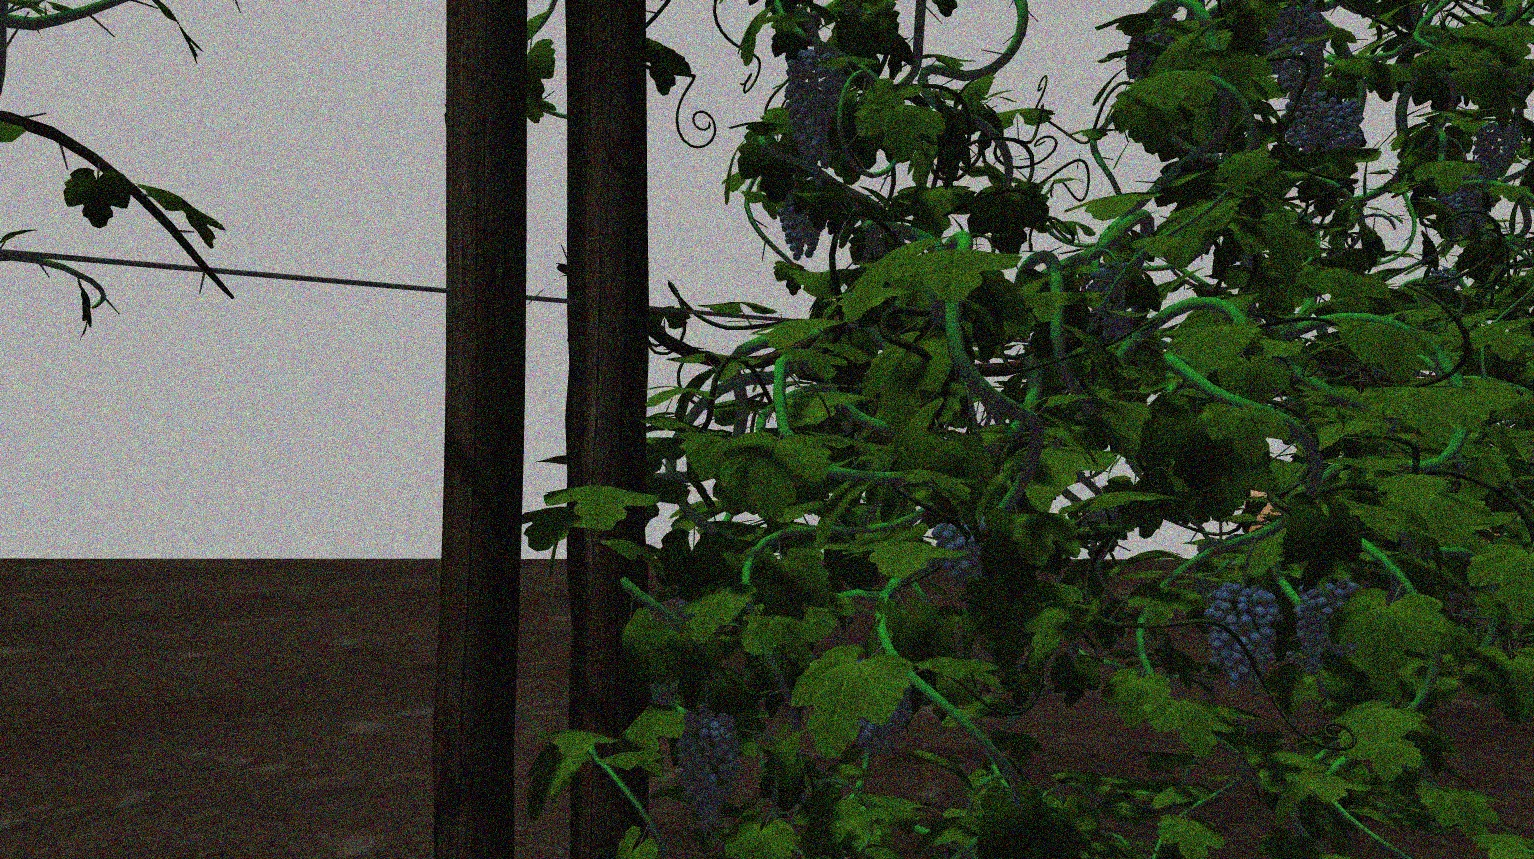grape: (673, 703, 739, 838), (783, 47, 851, 169), (1209, 582, 1281, 697), (1267, 8, 1334, 97), (928, 518, 984, 586), (1295, 583, 1332, 673), (776, 194, 823, 261), (1283, 92, 1332, 151), (1436, 186, 1486, 239), (1473, 124, 1522, 175), (1331, 91, 1364, 153)
